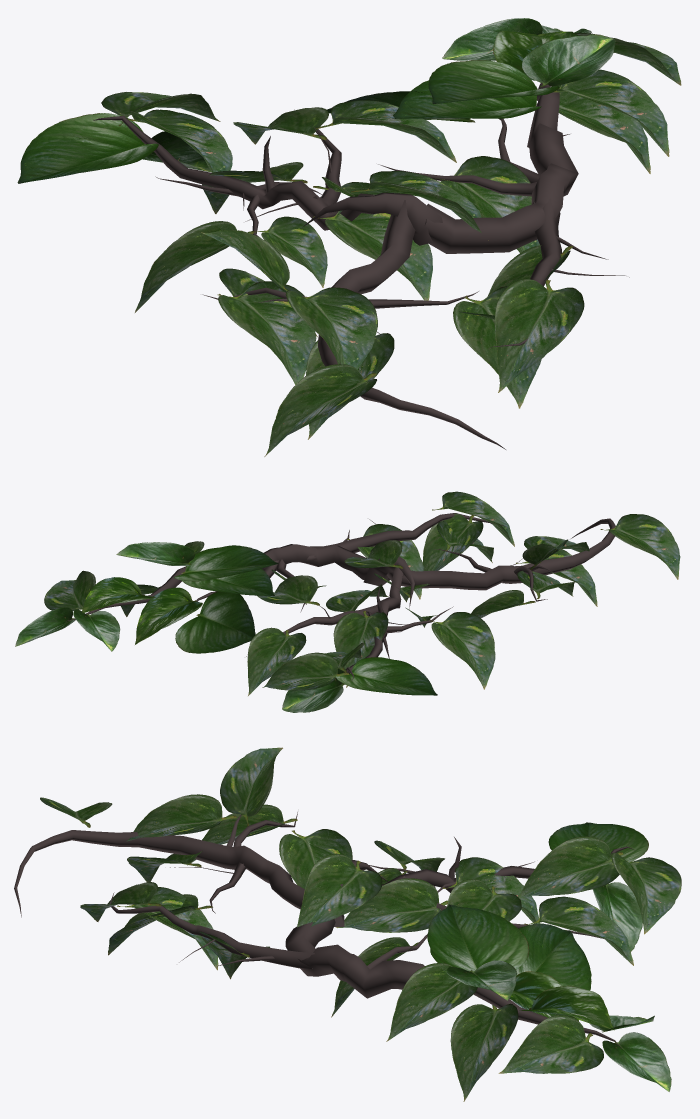
Rendered from folliage_03.FBX.
The picture shows the model from 3 angles, top to bottom: view 1: azimuth 30°, elevation 25°; view 2: azimuth 150°, elevation 25°; view 3: azimuth 270°, elevation 25°; orthographic projection. The views are drawn at different scales.
Visible parts, largest first — view 1: gwIvy001; view 2: gwIvy001; view 3: gwIvy001.
Boxes of the visible parts, bbox=[...] form: gwIvy001: bbox=[17, 18, 681, 456]; gwIvy001: bbox=[15, 491, 680, 712]; gwIvy001: bbox=[14, 747, 681, 1101].
Size of the model in its own units: 14.08 by 3.35 by 14.49.
